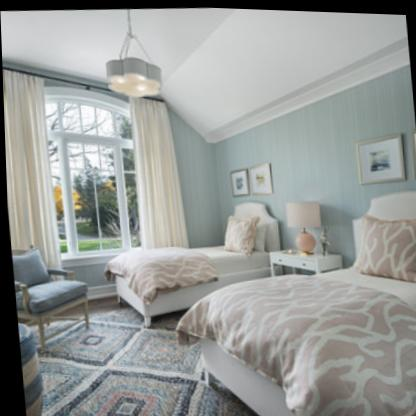Bed: (205, 185, 416, 416)
Curtains: (102, 199, 282, 317), (2, 69, 58, 269)
